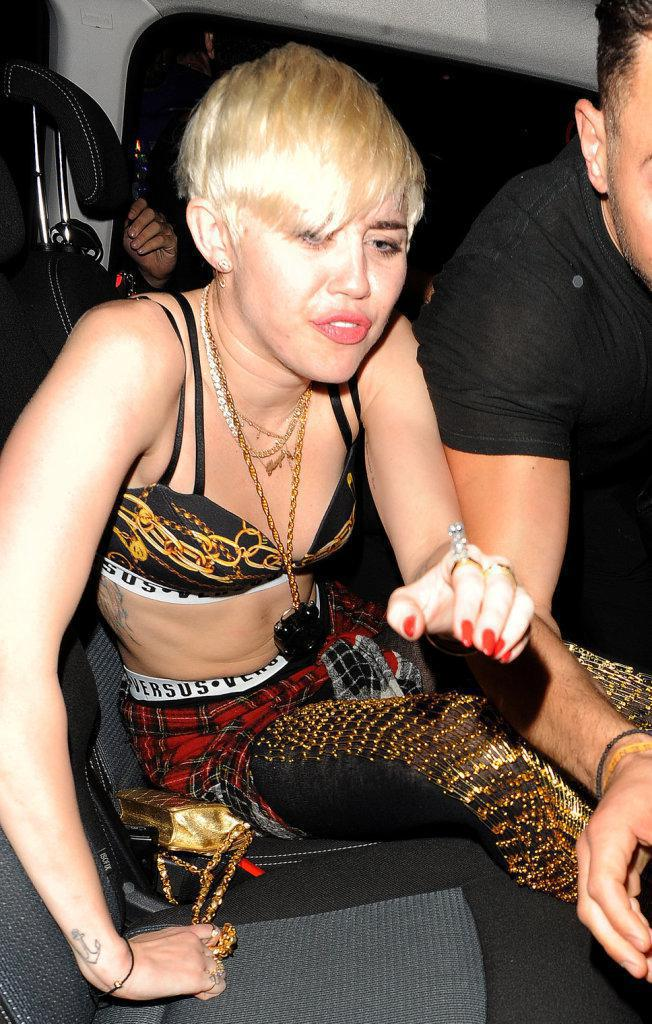Drunk: (227, 146, 405, 382)
